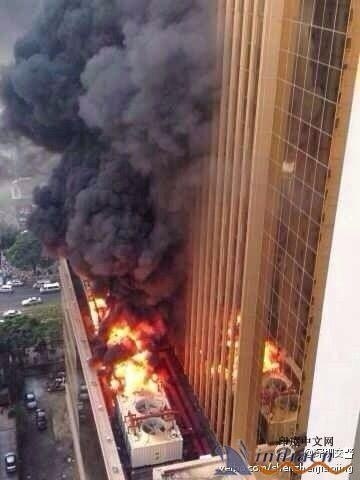fire: (88, 291, 166, 397), (207, 308, 282, 379), (259, 337, 283, 373)
